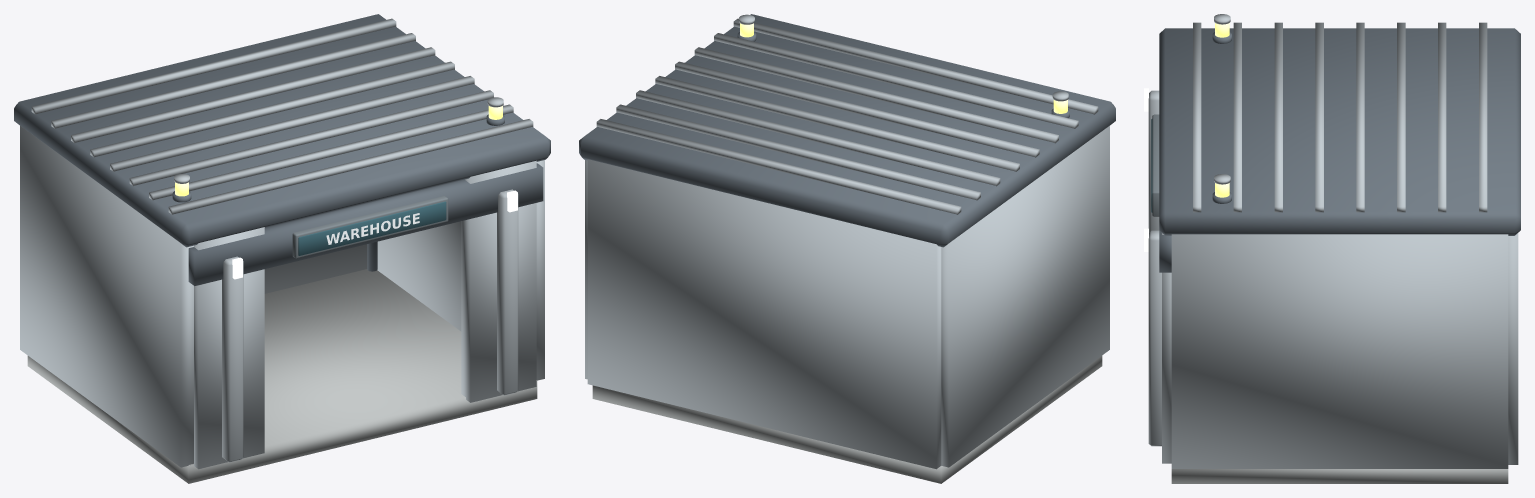
File: warehouse_ultra.glb
3 renders of one model, left to right at view 1: azimuth 30°, elevation 25°; view 2: azimuth 150°, elevation 25°; view 3: azimuth 270°, elevation 25°, orthographic. The views are drawn at different scales.
Parts seen in each view (by area): view 1: Wall_steel_legacy_1, Roof_dark_legacy_2, Foundation_concrete_legacy_0, RoofRib_steel_legacy_12, FrontFrame_steel_legacy_3, Header_dark_legacy_4, PortalTrim_steel_legacy_15, SignPlate_glass, ScreenMount_frame, TypeLabel_white; view 2: Wall_steel_legacy_1, Roof_dark_legacy_2, RoofRib_steel_legacy_12, Foundation_concrete_legacy_0; view 3: Wall_steel_legacy_1, Roof_dark_legacy_2, RoofRib_steel_legacy_12, Foundation_concrete_legacy_0, PortalTrim_steel_legacy_15, FrontFrame_steel_legacy_3, ScreenMount_frame, Header_dark_legacy_4, StatusLight_warn_legacy_10.
Boxes of the visible parts, left/top/right/bottom form: Wall_steel_legacy_1: left=20, top=125, right=544, bottom=467; Roof_dark_legacy_2: left=14, top=14, right=550, bottom=247; Foundation_concrete_legacy_0: left=27, top=269, right=537, bottom=483; RoofRib_steel_legacy_12: left=31, top=18, right=533, bottom=214; FrontFrame_steel_legacy_3: left=194, top=160, right=536, bottom=469; Header_dark_legacy_4: left=188, top=163, right=543, bottom=285; PortalTrim_steel_legacy_15: left=222, top=189, right=518, bottom=462; SignPlate_glass: left=298, top=201, right=446, bottom=255; ScreenMount_frame: left=292, top=196, right=448, bottom=258; TypeLabel_white: left=326, top=213, right=419, bottom=244; Wall_steel_legacy_1: left=585, top=125, right=1109, bottom=469; Roof_dark_legacy_2: left=579, top=14, right=1115, bottom=247; RoofRib_steel_legacy_12: left=596, top=18, right=1098, bottom=214; Foundation_concrete_legacy_0: left=592, top=356, right=1102, bottom=483; Wall_steel_legacy_1: left=1171, top=233, right=1518, bottom=468; Roof_dark_legacy_2: left=1159, top=28, right=1520, bottom=235; RoofRib_steel_legacy_12: left=1193, top=22, right=1487, bottom=212; Foundation_concrete_legacy_0: left=1171, top=469, right=1508, bottom=483; PortalTrim_steel_legacy_15: left=1148, top=90, right=1161, bottom=446; FrontFrame_steel_legacy_3: left=1162, top=233, right=1171, bottom=463; ScreenMount_frame: left=1152, top=114, right=1159, bottom=216; Header_dark_legacy_4: left=1159, top=230, right=1171, bottom=272; StatusLight_warn_legacy_10: left=1215, top=23, right=1229, bottom=197.
Size of the model in its own units: 5.3 by 3.9 by 4.48.
